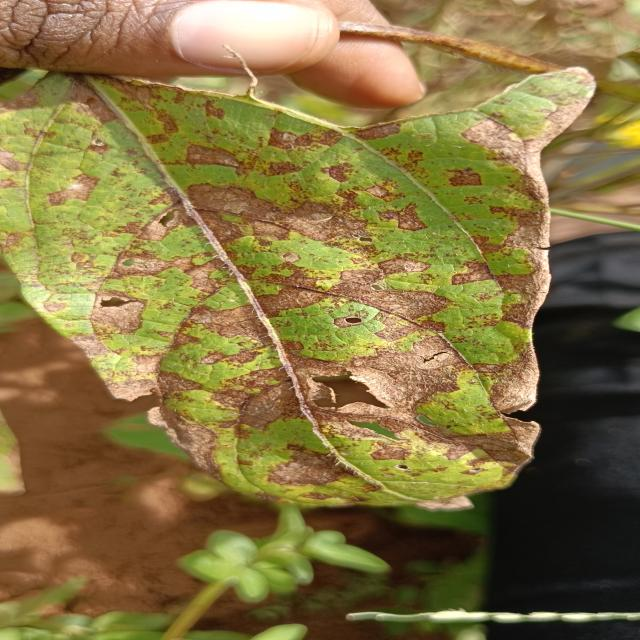Black gram_leaf spot: (0, 34, 604, 514)
